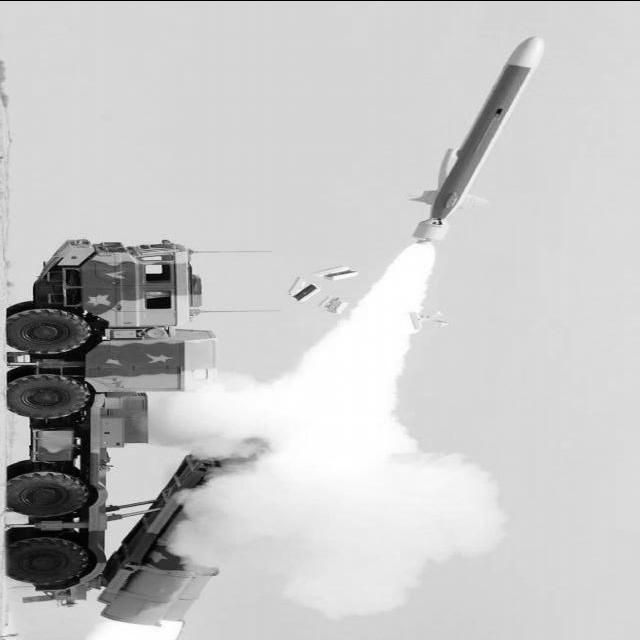missile: (395, 34, 558, 244)
